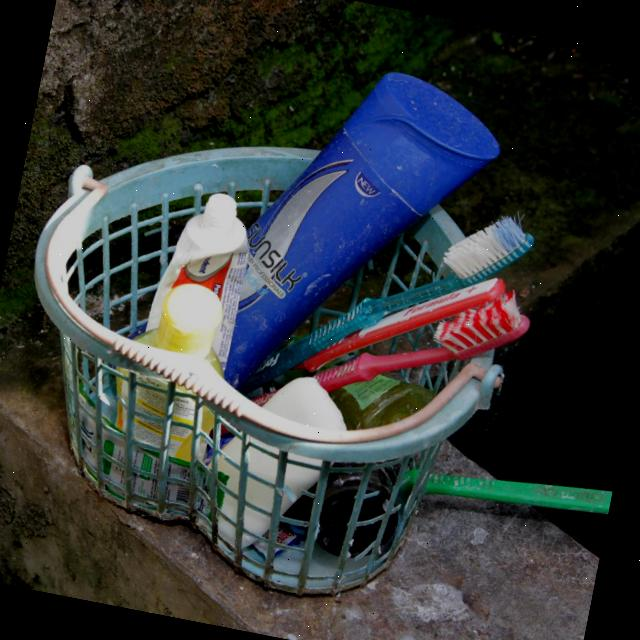Toothpaste: (135, 182, 262, 376)
